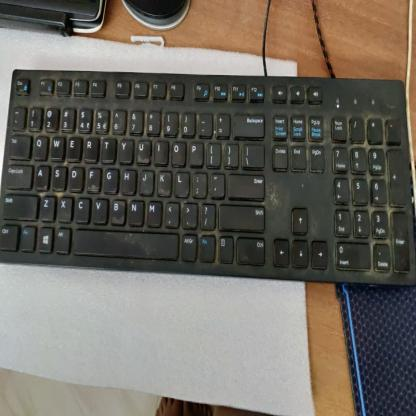keyboard: (14, 74, 401, 266)
